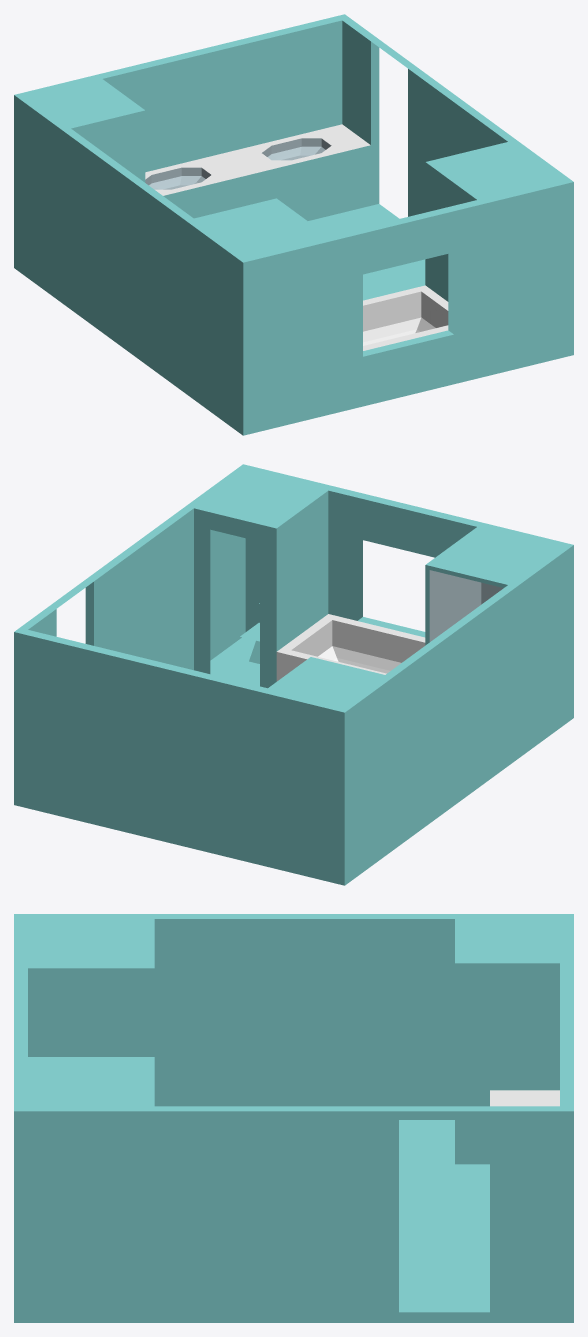
Rendered from bathroom.fbx.
The picture shows the model from 3 angles, top to bottom: view 1: azimuth 30°, elevation 25°; view 2: azimuth 150°, elevation 25°; view 3: azimuth 270°, elevation 25°; orthographic projection. The views are drawn at different scales.
Visible parts, largest first — view 1: Cube; view 2: Cube; view 3: Cube.
Part boxes in pixels (x1,y1,x2,y2): Cube: [14, 14, 573, 435]; Cube: [14, 464, 573, 885]; Cube: [14, 914, 573, 1322].
Size of the model in its own units: 2000 by 1000 by 2400.
